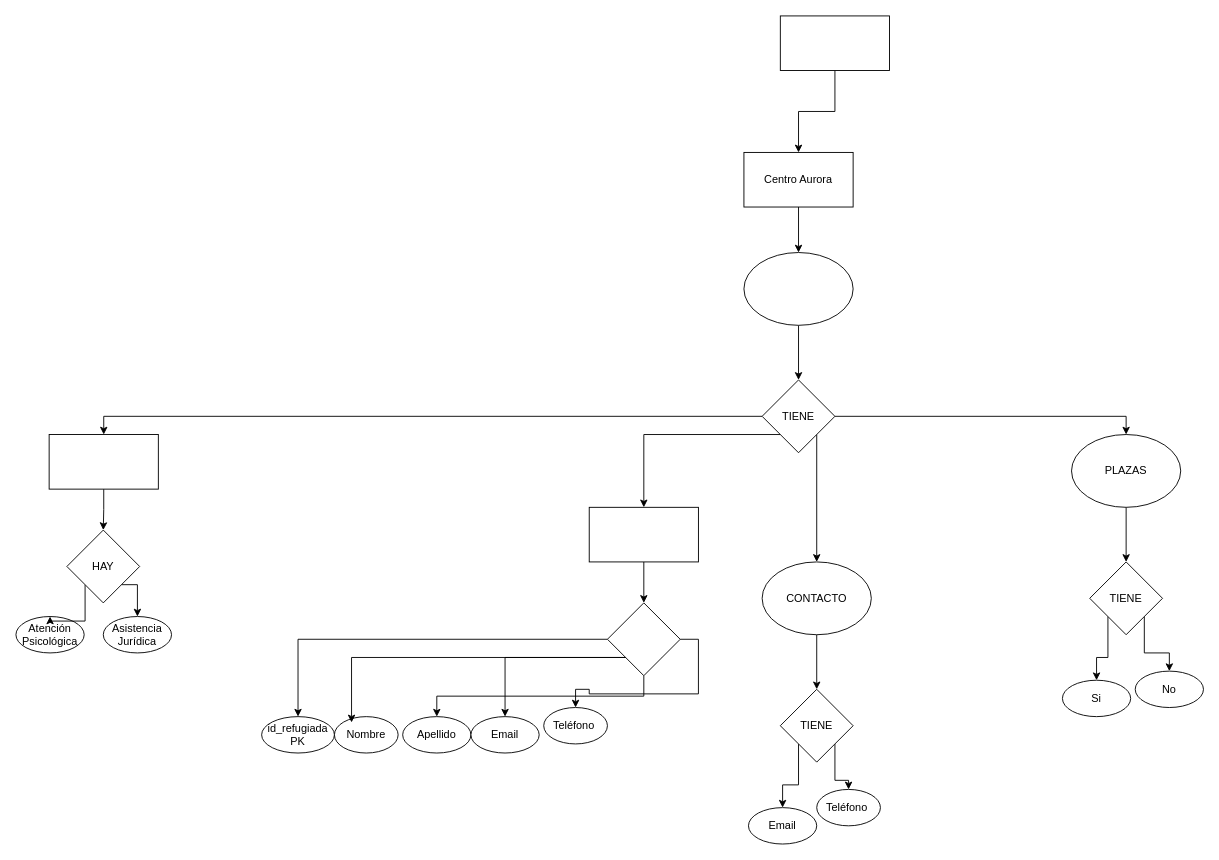
Image size: 1219x860. Some labels were removed from this diagram. Here are the shapes that lost their labels. From the top down, the centre of each, then its label:
pixel 834 43: REFUGIO
pixel 798 288: id_centroAurora PK
pixel 103 461: SERVICIOS
pixel 643 534: REFUGIADAS
pixel 643 639: TIENEN
